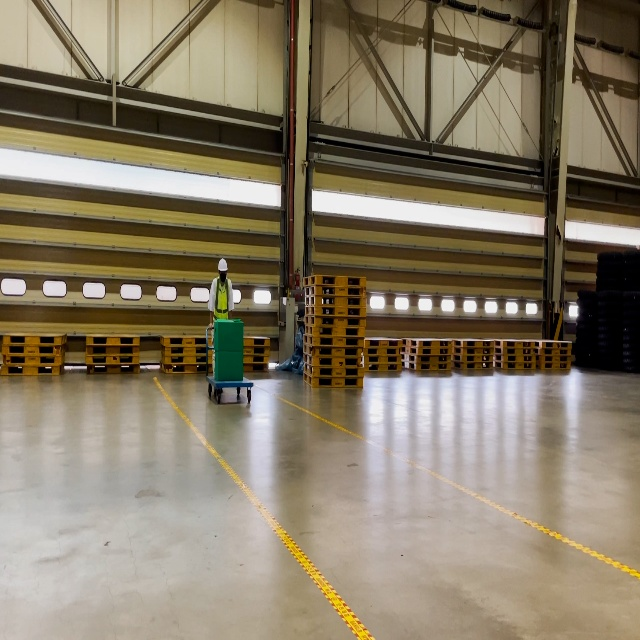Box: (214, 318, 244, 351), (214, 351, 243, 381)
Worker: (208, 258, 235, 393)
